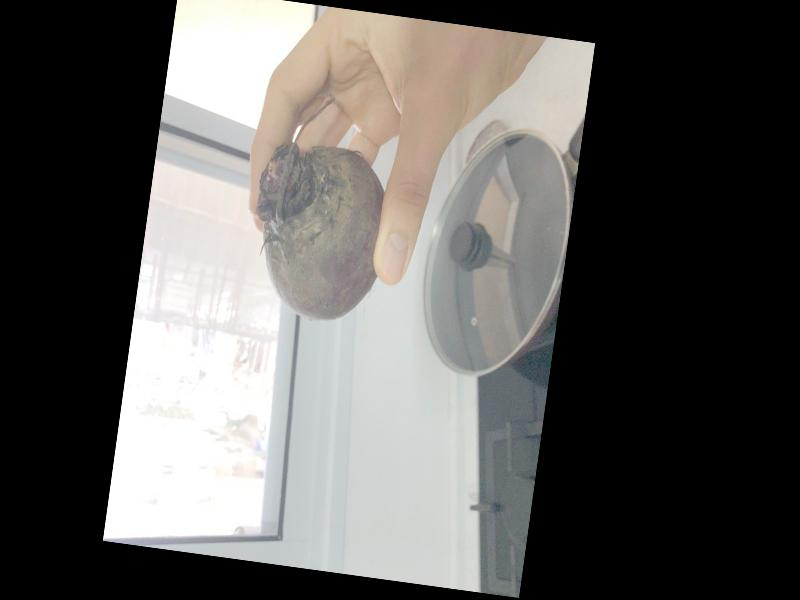Beet: (241, 87, 402, 328)
